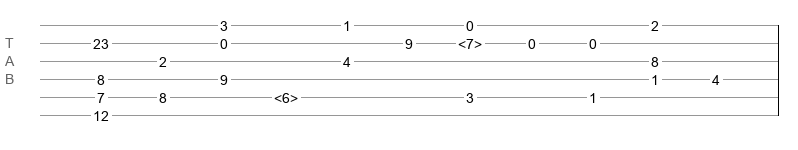0: (220, 36, 228, 46), (466, 18, 474, 28), (528, 36, 536, 46), (589, 36, 597, 46)
1: (343, 18, 351, 28), (589, 90, 597, 100), (651, 72, 659, 82)
12: (93, 108, 109, 118)
2: (159, 54, 167, 64), (651, 18, 659, 28)
23: (93, 36, 109, 46)
3: (220, 18, 228, 28), (466, 90, 474, 100)
4: (343, 54, 351, 64), (712, 72, 720, 82)
7: (97, 90, 105, 100)
8: (97, 72, 105, 82), (159, 90, 167, 100), (651, 54, 659, 64)
9: (220, 72, 228, 82), (405, 36, 413, 46)
harmonic: (274, 90, 298, 100), (458, 36, 482, 46)
